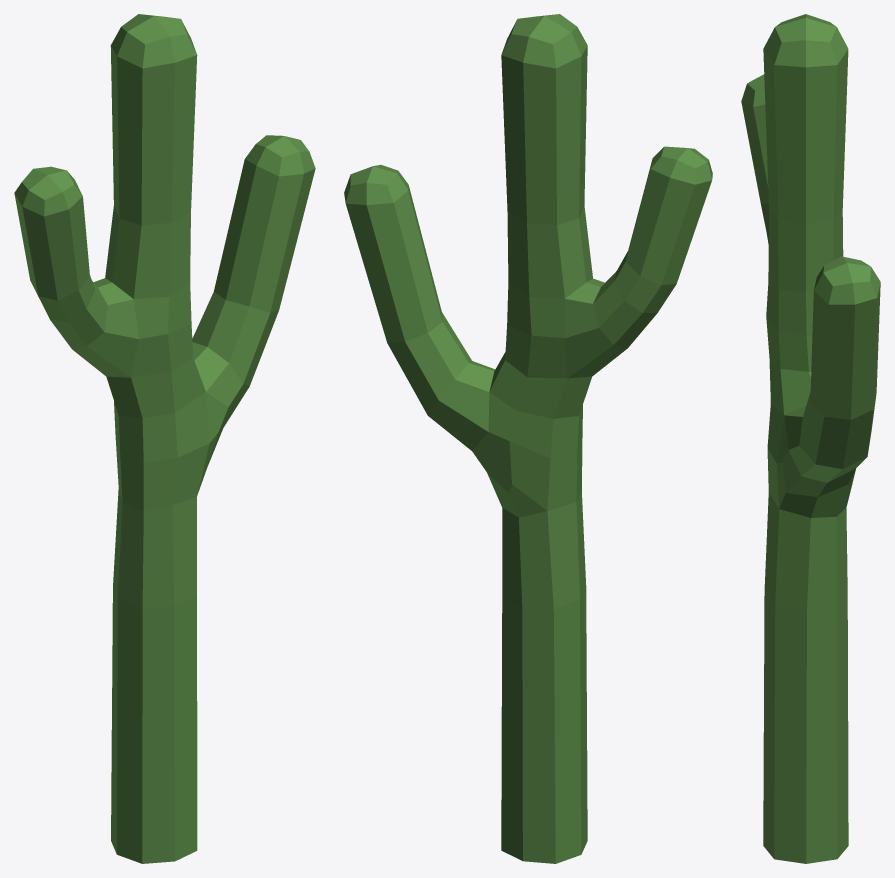
The model's file is Tree_Cactus.fbx.
3 renders of one model, left to right at view 1: azimuth 30°, elevation 25°; view 2: azimuth 150°, elevation 25°; view 3: azimuth 270°, elevation 25°, orthographic.
Parts seen in each view (by area): view 1: Tree_Cactus; view 2: Tree_Cactus; view 3: Tree_Cactus.
Boxes of the visible parts, <box> form: Tree_Cactus: <box>14,14,315,863</box>; Tree_Cactus: <box>344,14,712,863</box>; Tree_Cactus: <box>741,14,880,863</box>.
Size of the model in its own units: 1.39 by 3.38 by 0.5152.
